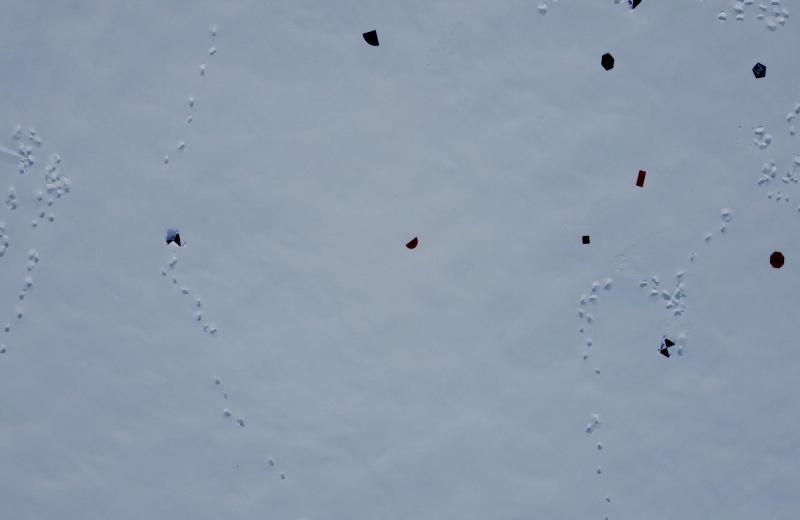Hexagon: (601, 52, 615, 72)
Octagon: (768, 250, 786, 270)
Pentagon: (752, 62, 767, 79)
Quarter Circle: (362, 30, 380, 48)
Rectangle: (635, 167, 647, 188)
Semi Circle: (405, 235, 419, 250)
Square: (582, 235, 590, 245)
